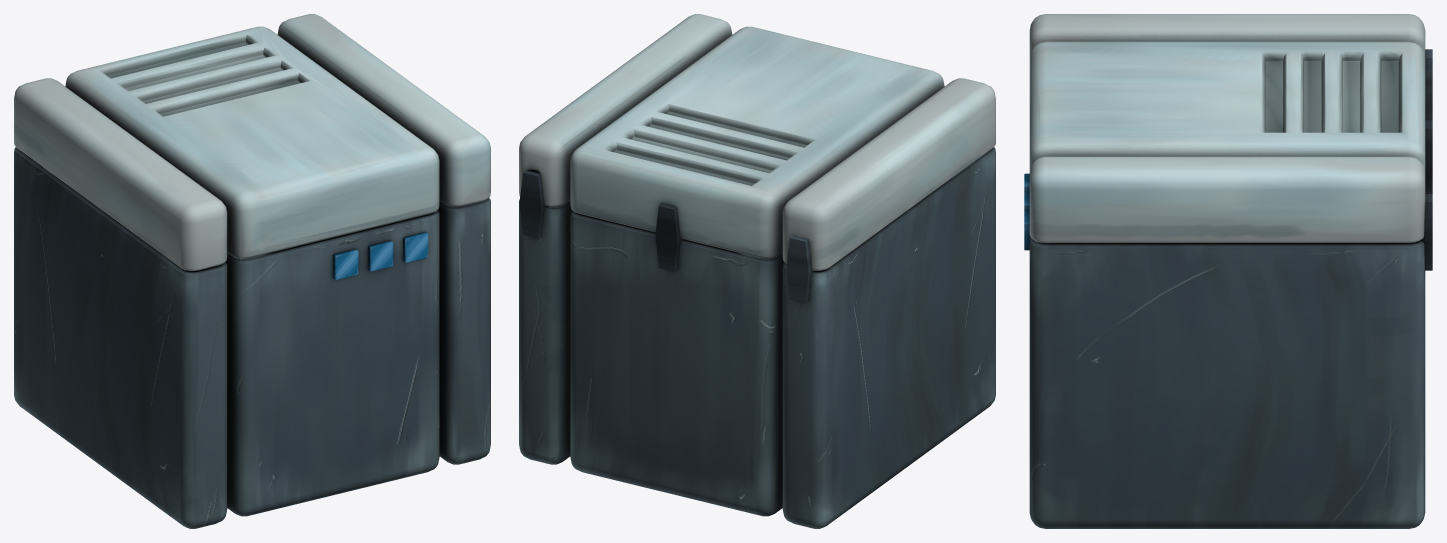
The model's file is CajaFinal (1).fbx.
The picture shows the model from 3 angles, left to right: view 1: azimuth 30°, elevation 25°; view 2: azimuth 150°, elevation 25°; view 3: azimuth 270°, elevation 25°; orthographic projection. The views are drawn at different scales.
Visible parts, largest first — view 1: Box; view 2: Box; view 3: Box.
Part boxes in pixels (x1=…): Box: x1=14, y1=14, x2=490, y2=528; Box: x1=519, y1=14, x2=995, y2=528; Box: x1=1024, y1=14, x2=1432, y2=528.
Bounding box in the file's own units: 147 × 147 × 152.
